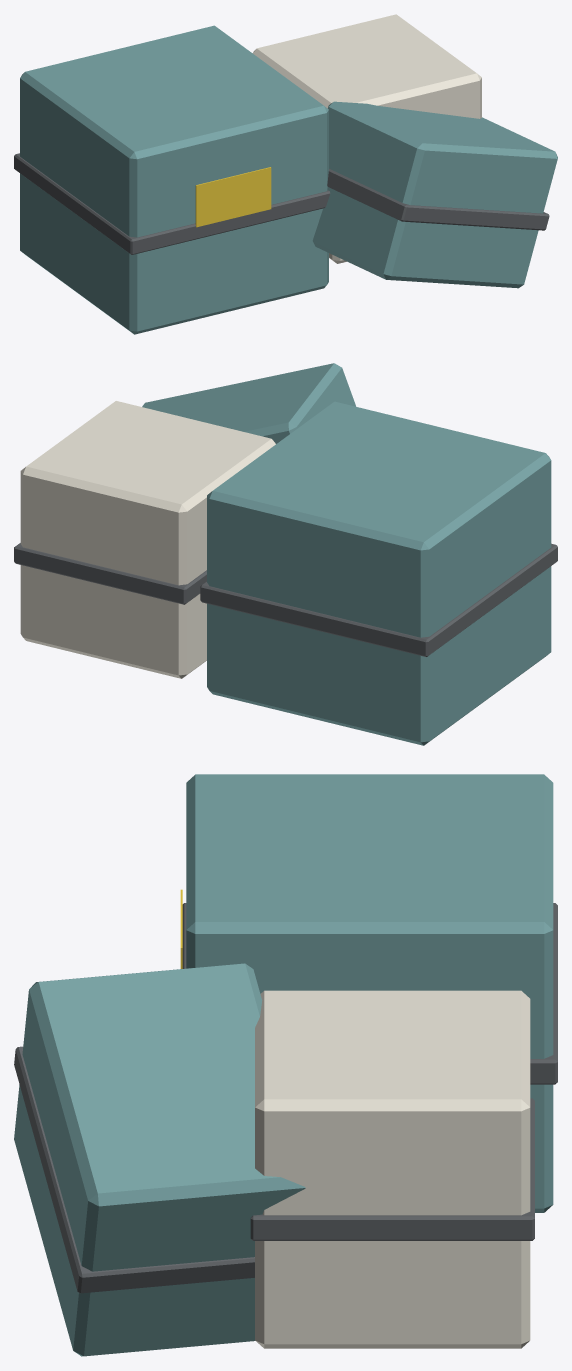
The model's file is crate_pile_tipped.glb.
3 renders of one model, top to bottom at view 1: azimuth 30°, elevation 25°; view 2: azimuth 150°, elevation 25°; view 3: azimuth 270°, elevation 25°, orthographic. The views are drawn at different scales.
Visible parts, largest first — view 1: crate_pile_tipped; view 2: crate_pile_tipped; view 3: crate_pile_tipped.
Part boxes in pixels (left/top/right/bottom): crate_pile_tipped: left=14, top=14, right=557, bottom=334; crate_pile_tipped: left=14, top=363, right=557, bottom=745; crate_pile_tipped: left=14, top=774, right=557, bottom=1356.
Size of the model in its own units: 1.61 by 0.7478 by 1.19.
